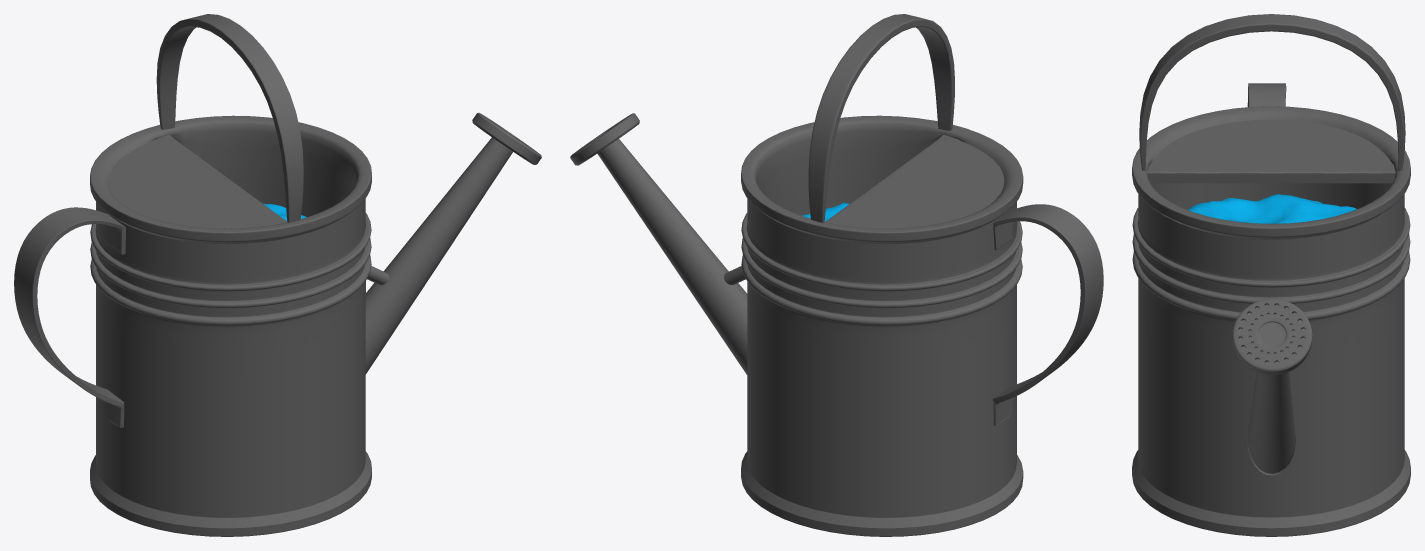
Rendered from wateringCan.fbx.
3 views of the same model, side by side, from view 1: azimuth 30°, elevation 25°; view 2: azimuth 150°, elevation 25°; view 3: azimuth 270°, elevation 25° (orthographic).
Visible parts, largest first — view 1: watering_can; view 2: watering_can; view 3: watering_can.
Part boxes in pixels (bbox=[...]): watering_can: bbox=[14, 14, 541, 536]; watering_can: bbox=[570, 14, 1103, 536]; watering_can: bbox=[1132, 14, 1410, 536].
Size of the model in its own units: 3.28 by 2.74 by 1.51.
